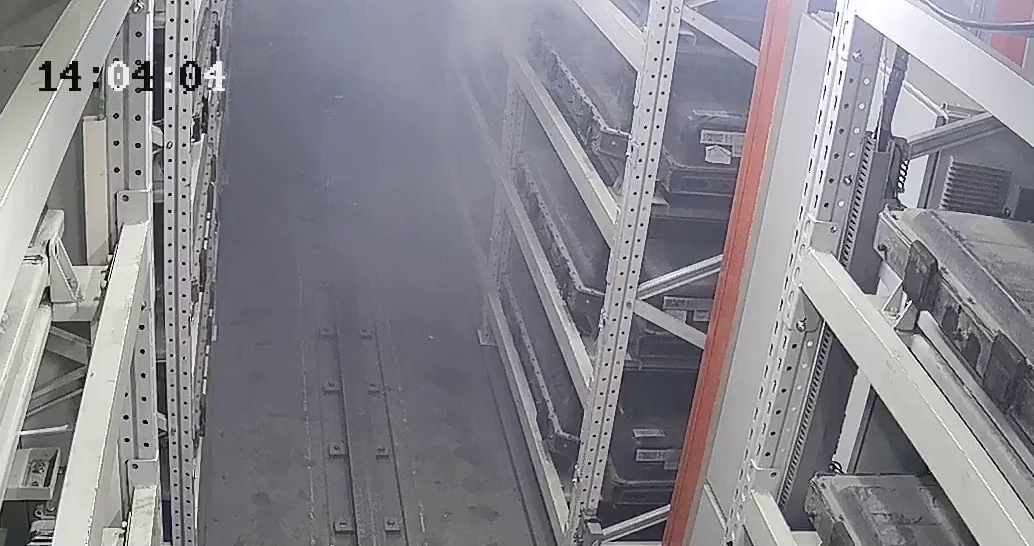smoke: (343, 15, 516, 224)
